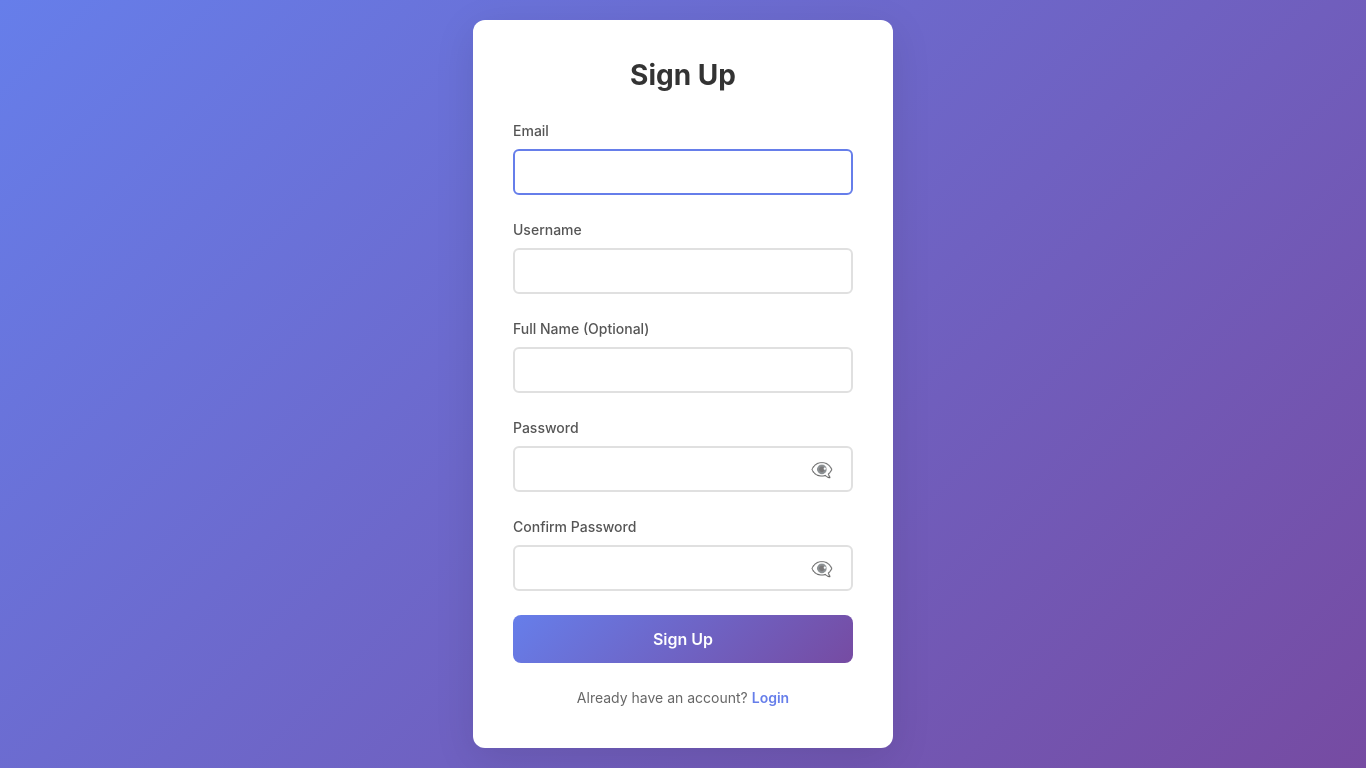
Scenario: Signup Component › Form Validation › shows error when password is too short
This screenshot has width=1366, height=768.
Type "test@example.com" into the field labelled "Email" at (683, 172), box [513, 149, 853, 195]
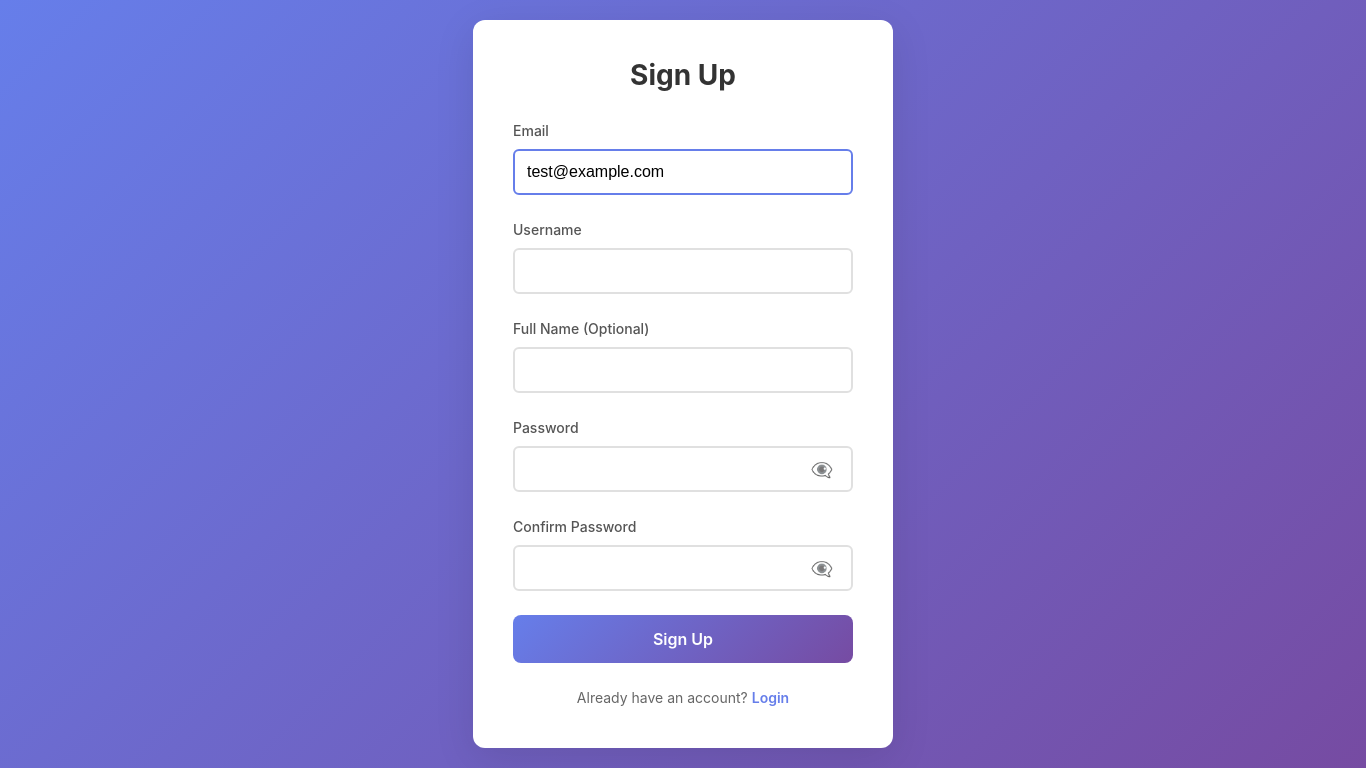
Type "testuser" into the field labelled "Username" at (683, 271), box [513, 248, 853, 294]
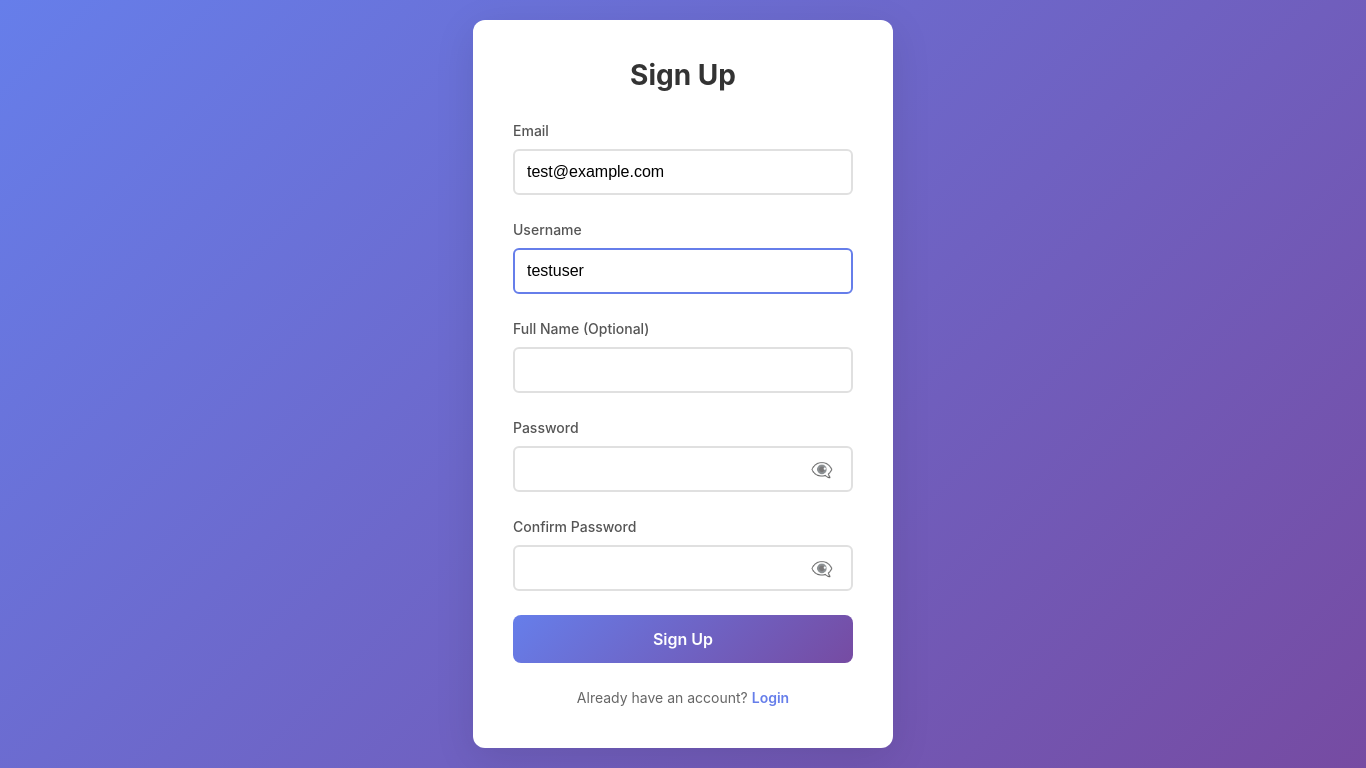
Type "short" into the password field labelled "Password" at (683, 469), box [513, 446, 853, 492]
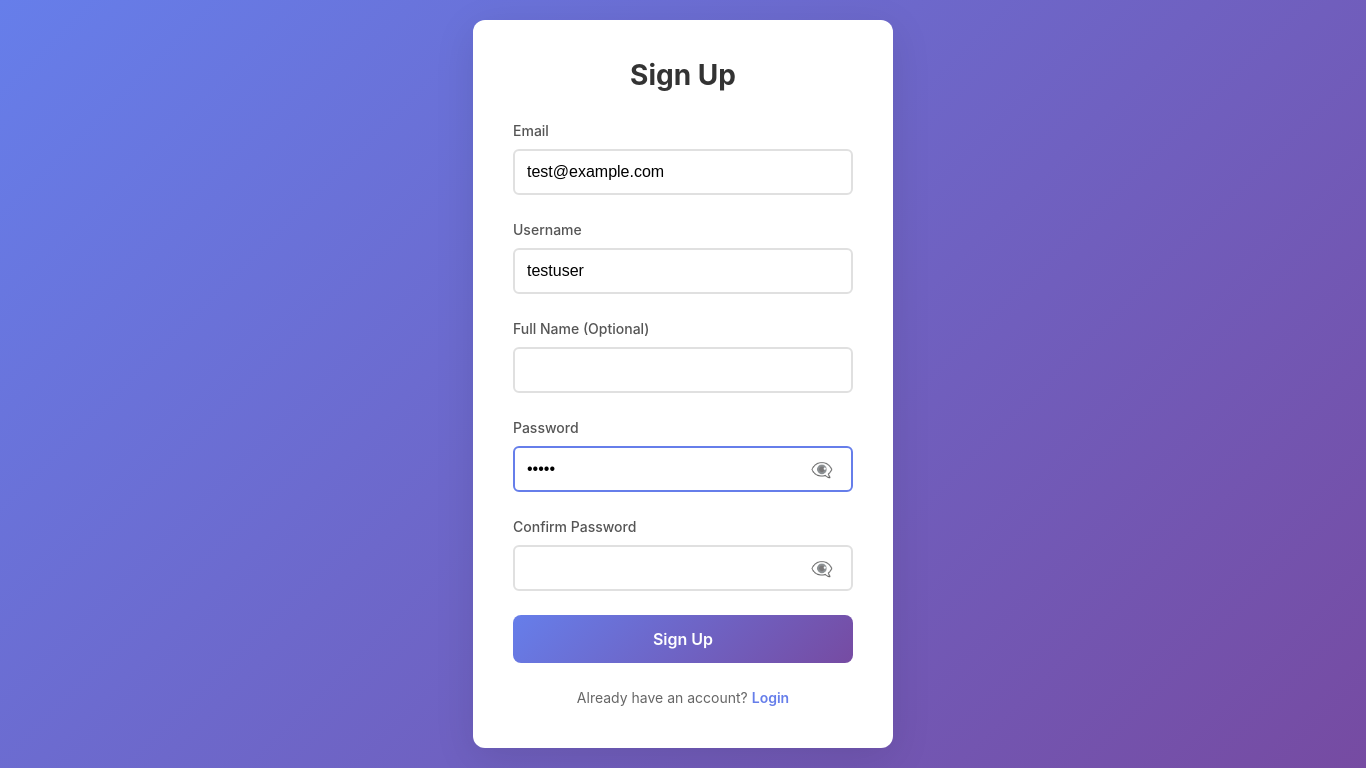
Type "short" into the password field labelled "Confirm Password" at (683, 568), box [513, 545, 853, 591]
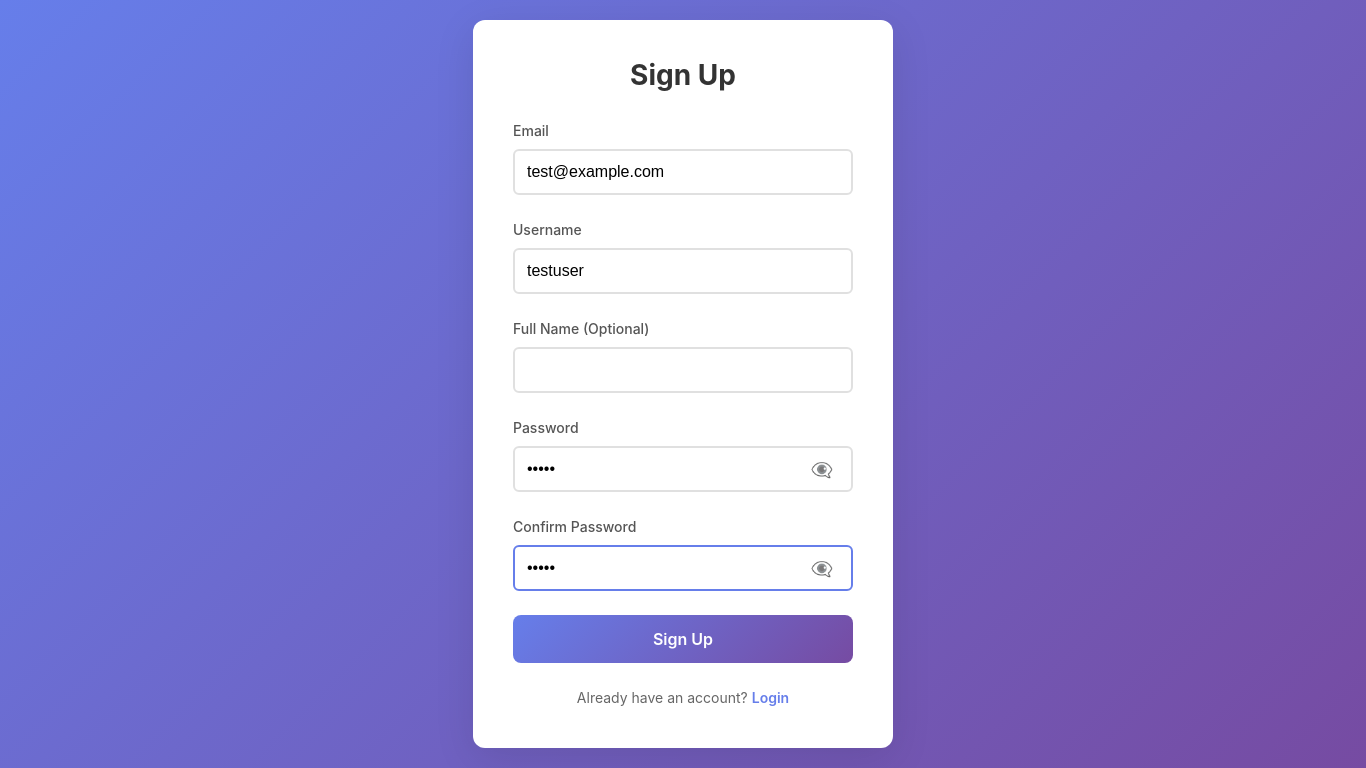
Click the button "Sign Up" at (683, 639), box [513, 615, 853, 663]
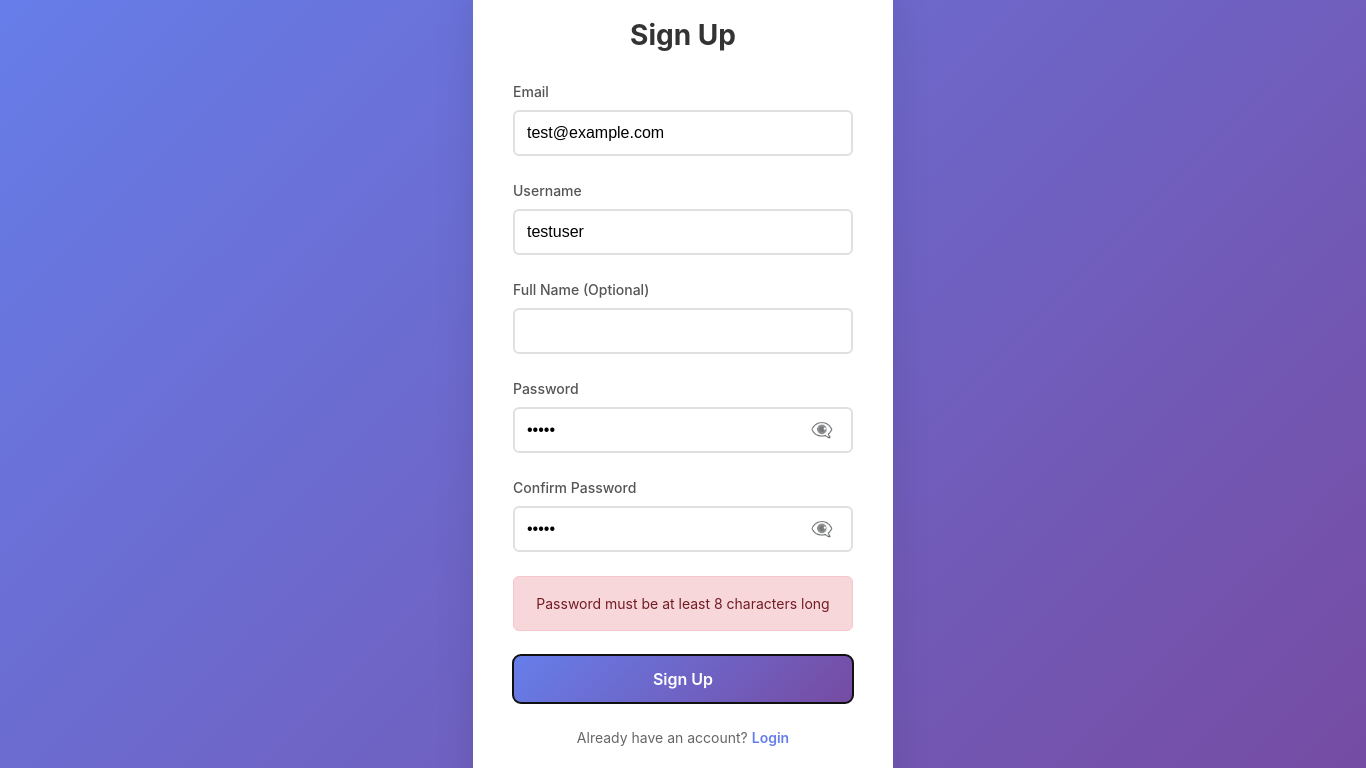
Result: the text "Password must be at least 8 characters long" is shown at [513, 576, 853, 631]
